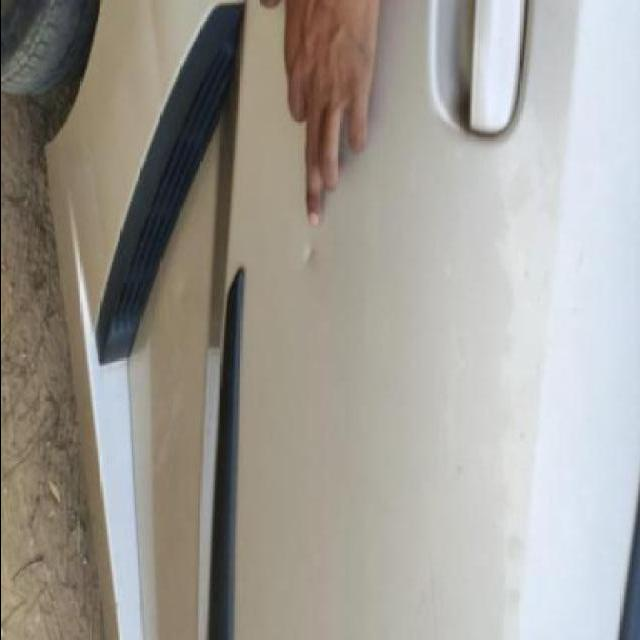doorouter-dent: (204, 2, 631, 640)
